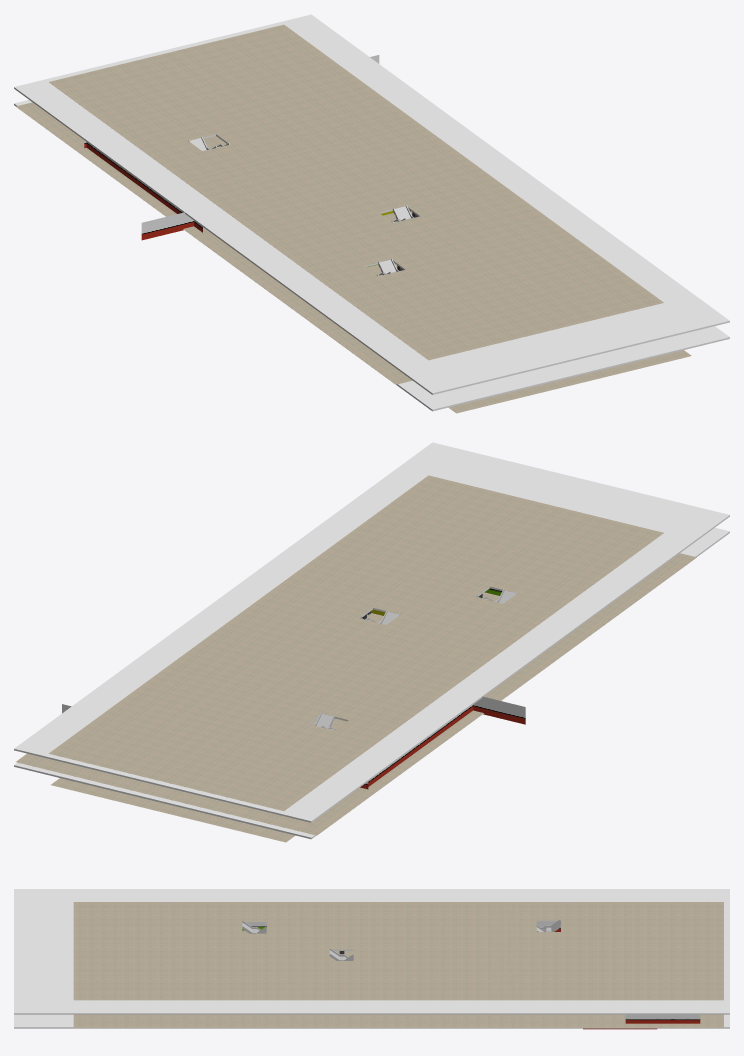
Rendered from freihaus_v0_9_environment.dae.
3 renders of one model, top to bottom at view 1: azimuth 30°, elevation 25°; view 2: azimuth 150°, elevation 25°; view 3: azimuth 270°, elevation 25°, orthographic. The views are drawn at different scales.
Visible parts, largest first — view 1: Plane_018, Plane_183, Plane_182, Plane_184, Plane_014, Plane_017, Plane_015, Plane_035, Plane_016, Plane_164, Plane_172; view 2: Plane_018, Plane_182, Plane_184, Plane_183, Plane_016, Plane_036, Plane_014, Plane_017, Plane_015, Plane_164, Plane_172; view 3: Plane_018, Plane_182, Plane_183, Plane_184, Plane_015, Plane_017, Plane_016, Plane_014, Plane_178.
Part boxes in pixels (x1,y1,x2,y2): Plane_018: (14, 14, 729, 394); Plane_183: (49, 24, 419, 181); Plane_182: (293, 210, 663, 360); Plane_184: (185, 113, 539, 260); Plane_014: (14, 100, 729, 411); Plane_017: (272, 264, 412, 384); Plane_015: (136, 192, 412, 293); Plane_035: (449, 350, 691, 413); Plane_016: (16, 102, 226, 194); Plane_164: (141, 212, 193, 240); Plane_172: (86, 142, 202, 232); Plane_018: (14, 442, 729, 822); Plane_182: (293, 475, 663, 632); Plane_184: (169, 566, 527, 722); Plane_183: (49, 654, 403, 810); Plane_016: (16, 718, 436, 835); Plane_036: (51, 778, 295, 842); Plane_014: (14, 528, 729, 839); Plane_017: (482, 553, 696, 647); Plane_015: (317, 613, 572, 747); Plane_164: (473, 696, 525, 724); Plane_172: (365, 705, 473, 788); Plane_018: (14, 889, 729, 1014); Plane_182: (73, 902, 306, 1000); Plane_183: (491, 902, 723, 1000); Plane_184: (285, 902, 517, 1000); Plane_015: (285, 951, 517, 1027); Plane_017: (73, 930, 285, 1027); Plane_016: (518, 1014, 723, 1027); Plane_014: (14, 1014, 729, 1028); Plane_178: (625, 1014, 700, 1023).
Bounding box in the file's own units: 119 × 246 × 11.75.
